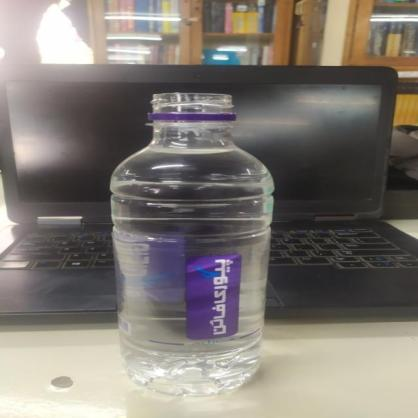bottle: (102, 85, 281, 407)
label: (102, 229, 287, 349)
